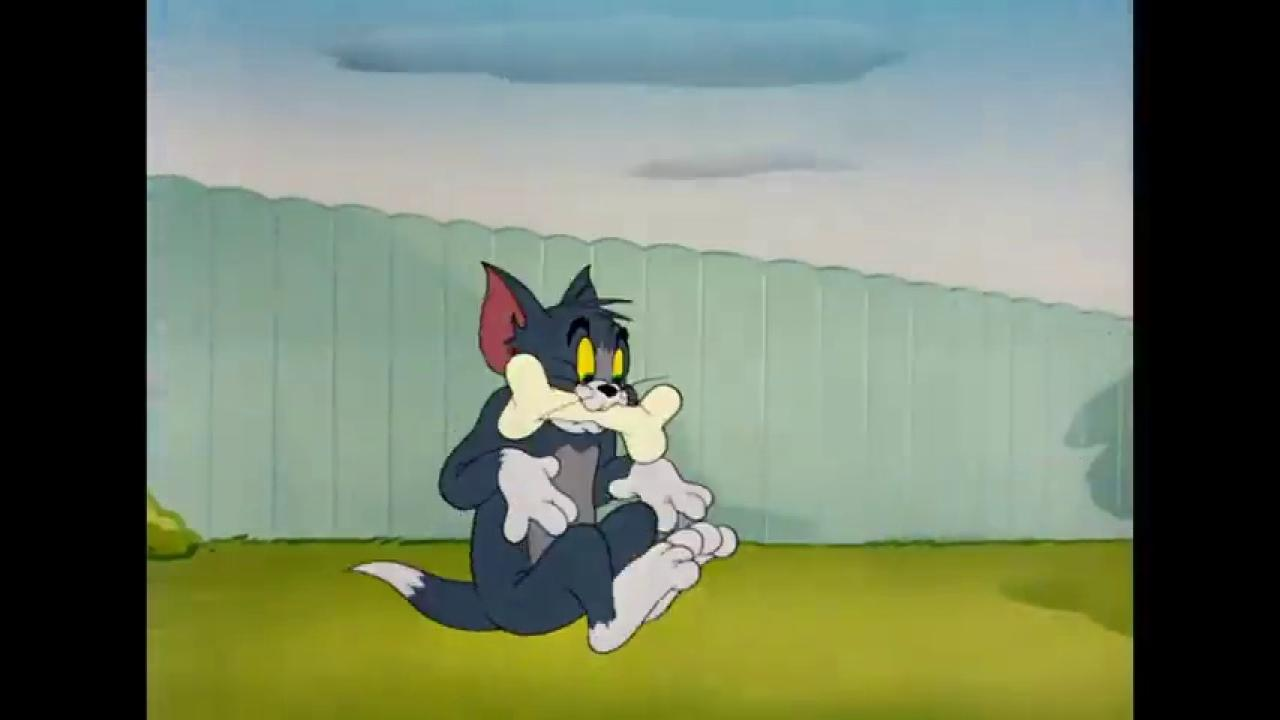Tom: (344, 257, 742, 654)
